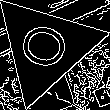O_E: (14, 20, 77, 76)
